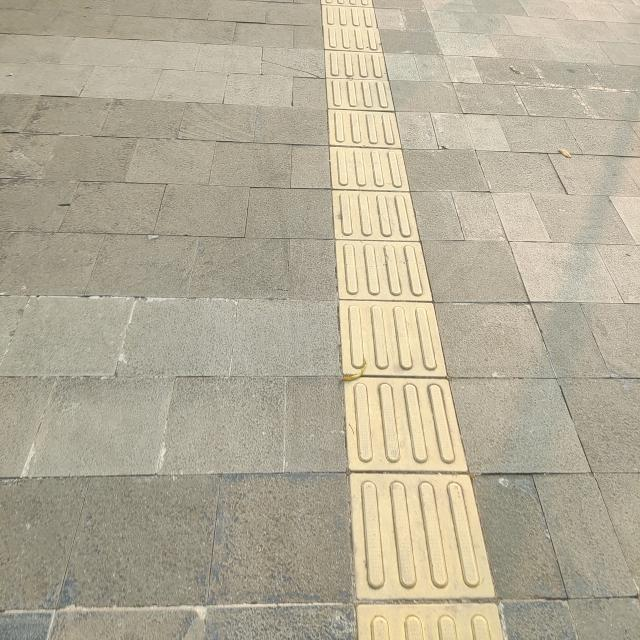lurus: (323, 2, 481, 640)
